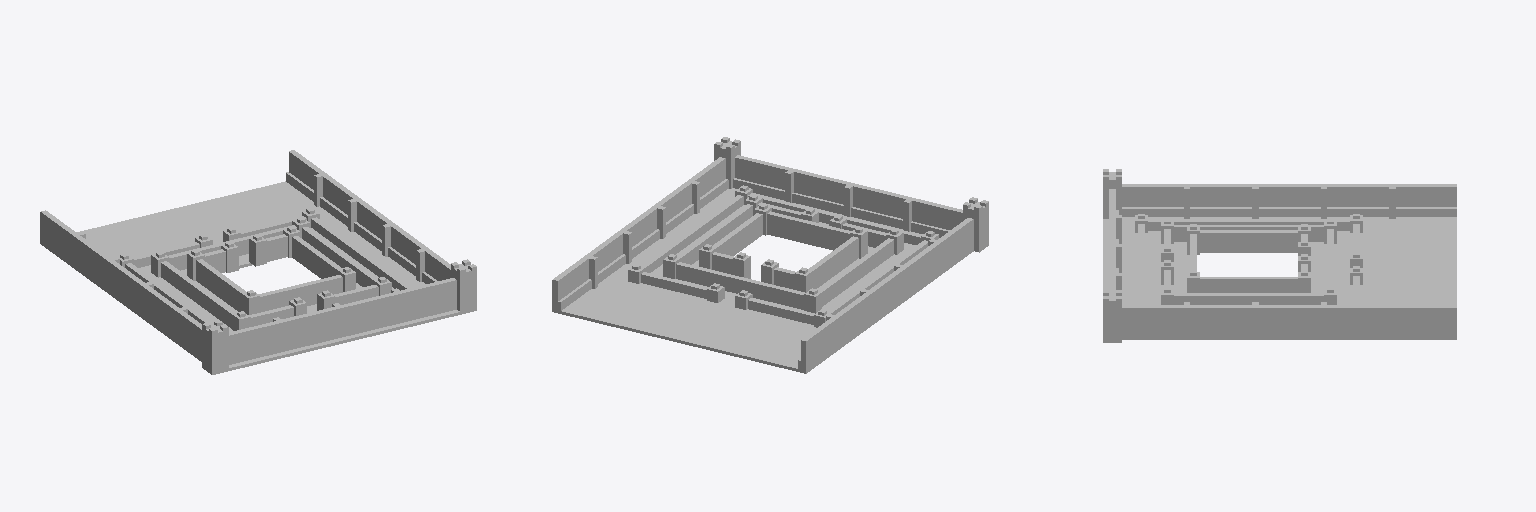
The model's file is 03_garden_2X.obj.
3 views of the same model, side by side, from view 1: azimuth 30°, elevation 25°; view 2: azimuth 150°, elevation 25°; view 3: azimuth 270°, elevation 25° (orthographic).
Size of the model in its own units: 94 by 15 by 109.